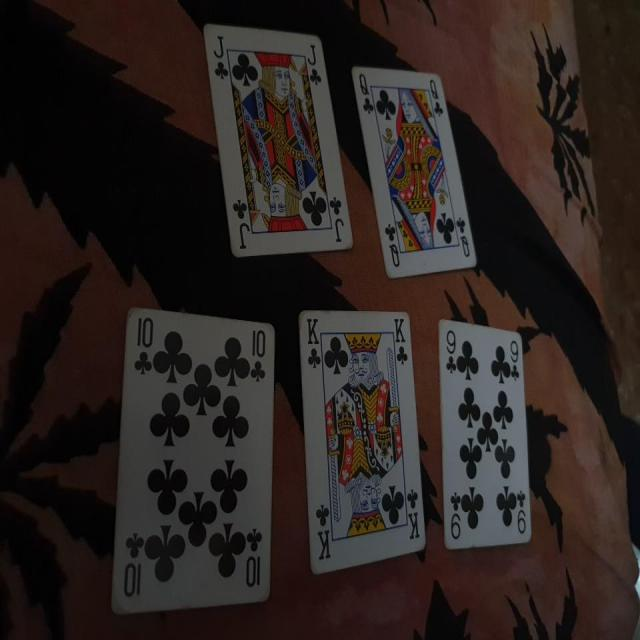10 Trefoils: (106, 303, 275, 616)
9 Trefoils: (436, 316, 533, 546)
J Trefoils: (202, 21, 355, 262)
K Trefoils: (299, 307, 429, 577)
Q Trefoils: (350, 66, 479, 277)
